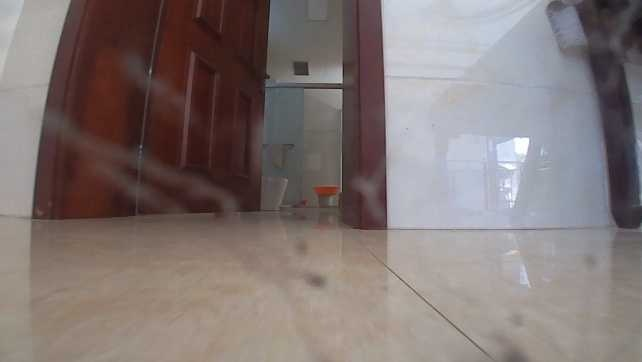door_anno: (33, 1, 269, 217)
toilet: (258, 174, 288, 213)
